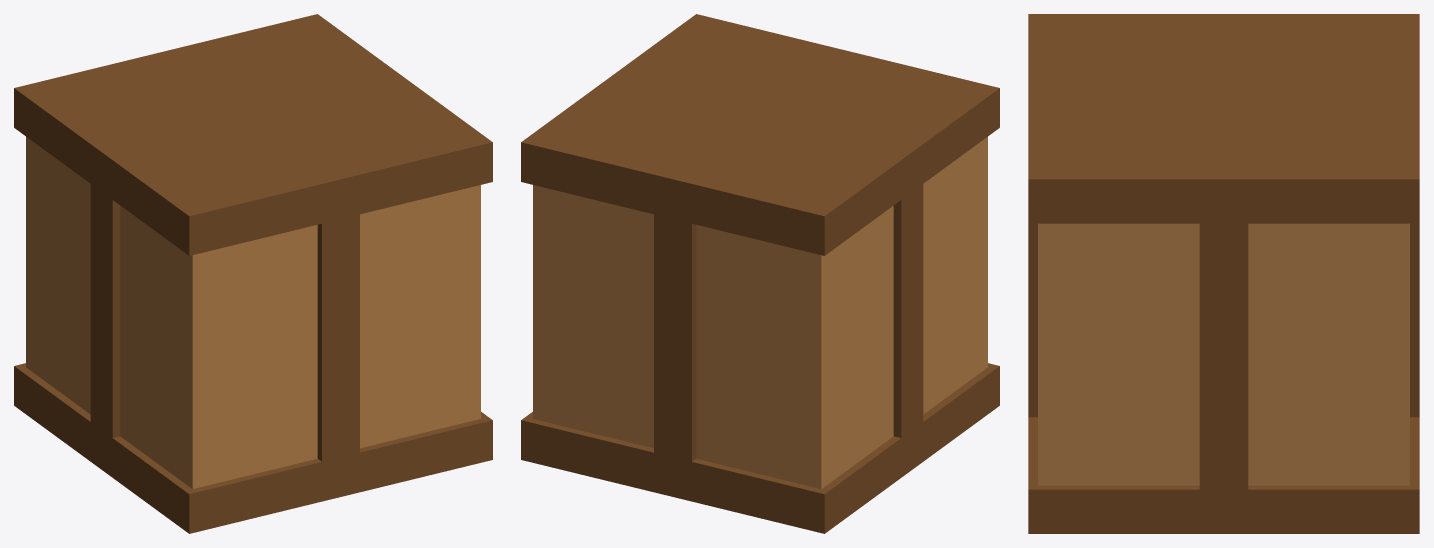
Rendered from crate.glb.
3 views of the same model, side by side, from view 1: azimuth 30°, elevation 25°; view 2: azimuth 150°, elevation 25°; view 3: azimuth 270°, elevation 25° (orthographic). The views are drawn at different scales.
Visible parts, largest first — view 1: Crate; view 2: Crate; view 3: Crate.
Part boxes in pixels (box(x1,y1,x2,y2)): Crate: box(14, 14, 492, 533); Crate: box(521, 14, 999, 533); Crate: box(1028, 14, 1419, 533).
Bounding box in the file's own units: 0.8 × 0.8 × 0.8.
